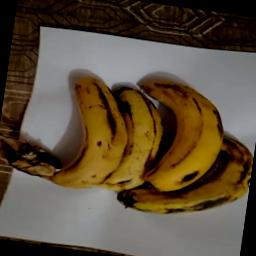Banana Unripe: (0, 65, 133, 195), (124, 66, 230, 201), (100, 82, 168, 196)
